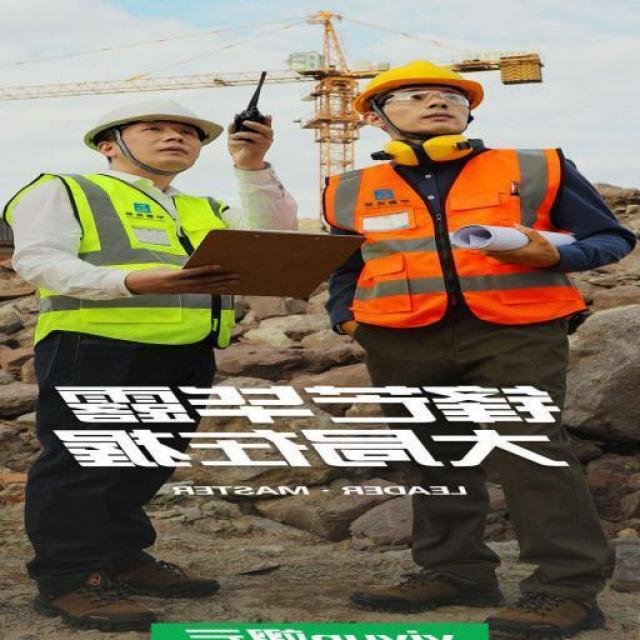vest: (334, 166, 568, 329), (62, 169, 224, 348)
